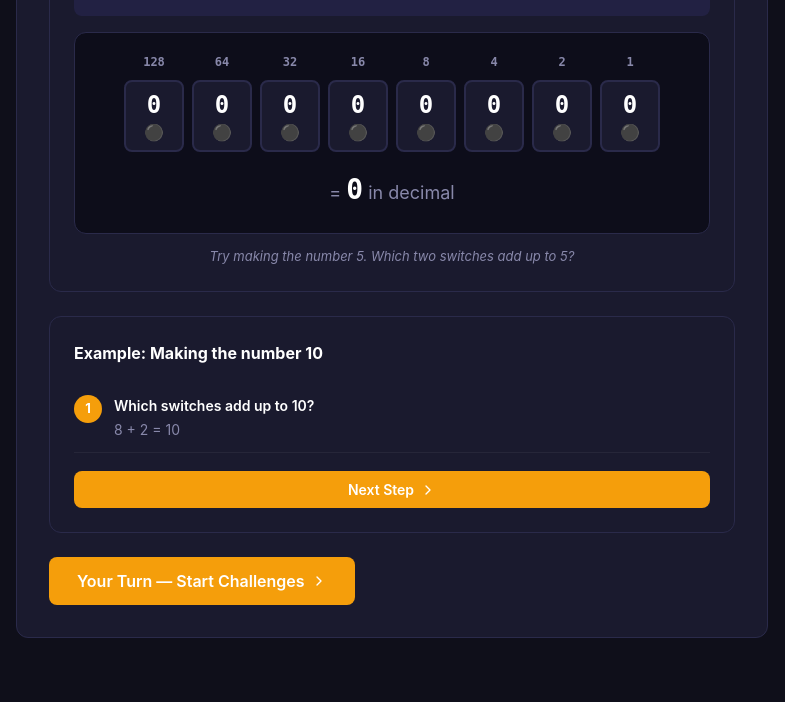
Scenario: ModulePage navigation › returns to tutorial when clicking "Re-read the lesson"
(page scrolled)
Click the button with test id "start-challenges".
click(202, 581)  # box [49,557,355,605]
(page scrolled)
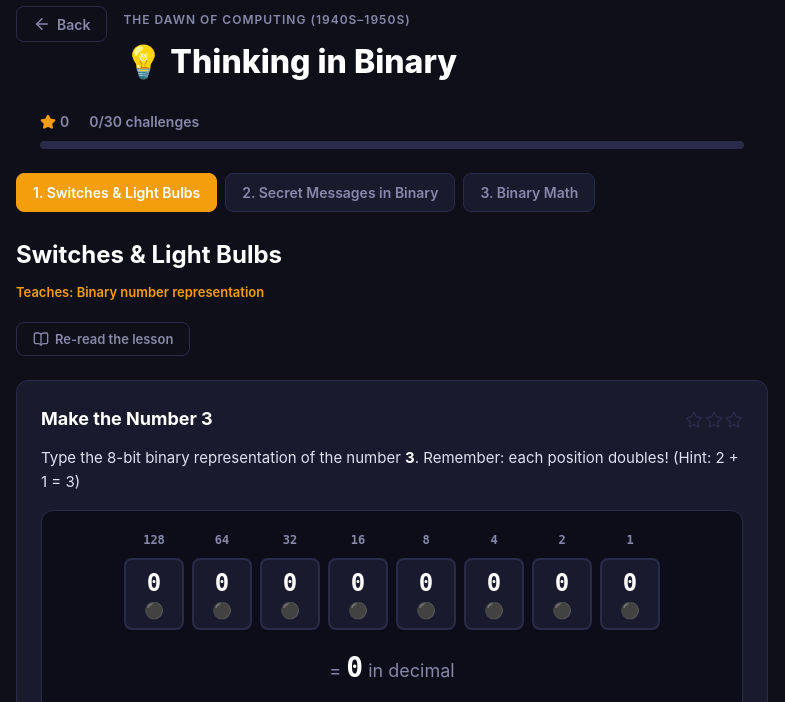
Click the button "Re-read the lesson".
click(103, 339)  # box [16,322,190,356]
(page scrolled)
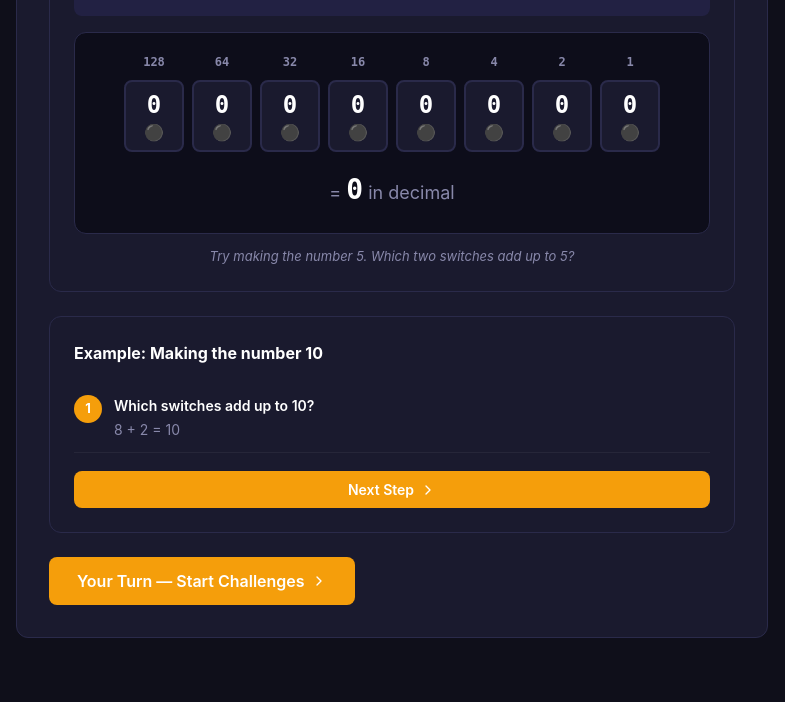
Expected: the button with test id "start-challenges" is shown, [49,557,355,605]
